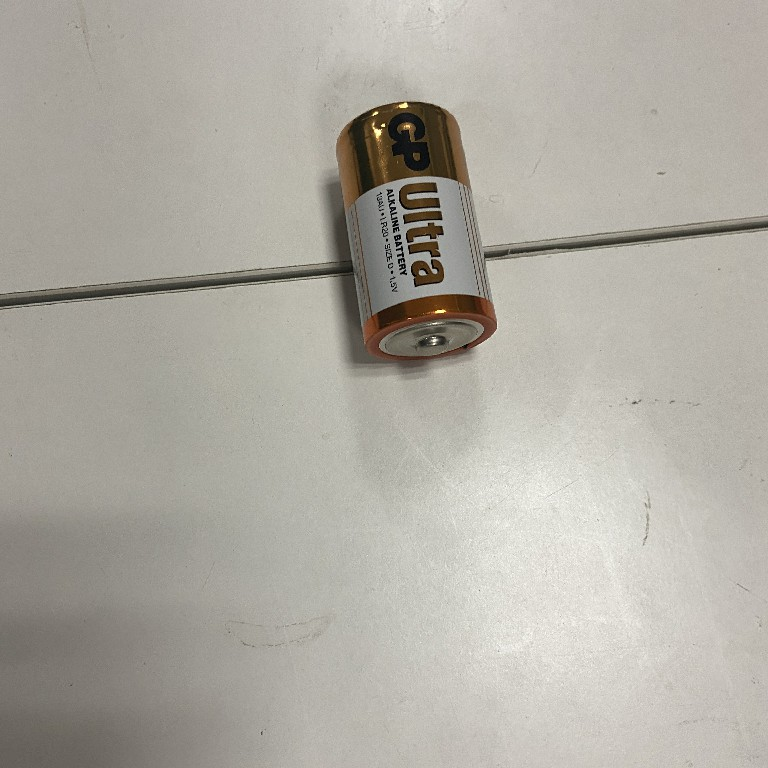charge: (327, 94, 501, 365)
